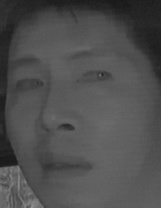eye: (75, 67, 113, 89), (12, 74, 46, 96)
mouth: (31, 146, 94, 187)
